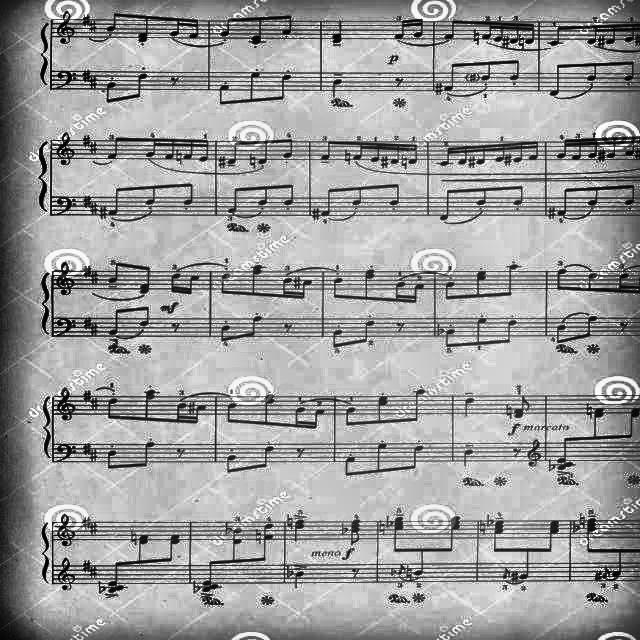Bass-clef: (54, 64, 70, 96), (53, 312, 71, 340), (53, 443, 71, 465), (56, 194, 72, 218)
Bemol: (217, 516, 233, 538), (336, 518, 348, 540), (548, 438, 554, 476), (571, 520, 579, 540), (435, 323, 443, 341), (94, 582, 106, 594), (285, 566, 293, 582), (192, 581, 200, 595), (486, 515, 494, 529), (388, 511, 392, 533), (392, 568, 396, 576)
Diez: (72, 242, 91, 282), (598, 20, 608, 54), (86, 15, 100, 35), (465, 151, 479, 171), (81, 436, 92, 459), (310, 204, 322, 224), (546, 200, 556, 224), (79, 510, 91, 530), (216, 152, 226, 174), (598, 148, 610, 166), (82, 384, 94, 402), (632, 22, 640, 48), (92, 442, 100, 468), (434, 78, 444, 98), (87, 198, 97, 218), (294, 274, 302, 298), (81, 66, 91, 84), (503, 152, 513, 170), (509, 569, 519, 587), (82, 128, 90, 150), (380, 150, 388, 172), (89, 396, 98, 414), (92, 268, 100, 288), (187, 401, 197, 417), (82, 9, 90, 27), (90, 137, 98, 155), (78, 196, 90, 208), (90, 518, 98, 536), (90, 323, 98, 339), (84, 312, 92, 328), (505, 32, 511, 52), (466, 70, 478, 80), (99, 206, 109, 218), (89, 564, 99, 576), (84, 558, 92, 572), (634, 143, 640, 161), (90, 74, 98, 86), (591, 570, 599, 582)
Eighth-note: (556, 434, 578, 476), (432, 186, 456, 222), (472, 268, 496, 304), (504, 259, 524, 301), (246, 14, 266, 54), (436, 13, 460, 42), (134, 8, 152, 46), (358, 263, 376, 301), (138, 390, 158, 424), (436, 276, 460, 304), (128, 306, 156, 330), (280, 6, 300, 36), (548, 64, 566, 96), (448, 512, 464, 548), (138, 260, 152, 300), (373, 397, 393, 425), (381, 180, 404, 204), (226, 182, 242, 215), (547, 264, 567, 290), (446, 62, 462, 94), (216, 13, 234, 41), (280, 180, 300, 204), (550, 322, 574, 342), (258, 394, 274, 424), (512, 398, 532, 422), (255, 138, 272, 166), (595, 394, 605, 441), (235, 525, 248, 561), (470, 321, 490, 344), (180, 178, 197, 205), (103, 80, 119, 108), (107, 134, 121, 166), (412, 390, 426, 422), (369, 446, 386, 472), (109, 182, 119, 226), (219, 454, 241, 474), (252, 262, 264, 298), (112, 302, 124, 338), (520, 552, 534, 582), (318, 137, 334, 163), (512, 182, 528, 208), (108, 257, 120, 291), (472, 185, 490, 207), (110, 6, 124, 34), (331, 274, 345, 302), (623, 182, 640, 205), (250, 70, 262, 102), (280, 134, 296, 158), (558, 188, 570, 220), (105, 448, 121, 472), (584, 187, 604, 206), (252, 186, 270, 206), (323, 186, 333, 222), (394, 512, 404, 548), (495, 517, 505, 553), (264, 514, 272, 558), (136, 72, 148, 101), (582, 61, 600, 80), (459, 448, 476, 468), (586, 517, 596, 551), (614, 548, 624, 582), (140, 531, 152, 559), (105, 396, 119, 419), (346, 186, 362, 206), (583, 319, 597, 341), (141, 443, 155, 465), (342, 458, 358, 477), (214, 85, 230, 103), (230, 142, 242, 166), (146, 182, 158, 206), (584, 268, 596, 292), (332, 330, 348, 348), (167, 532, 177, 560), (353, 518, 363, 546), (209, 562, 219, 590), (112, 564, 120, 598), (625, 59, 637, 81), (250, 317, 262, 339), (444, 328, 456, 350), (264, 447, 276, 469), (550, 518, 558, 550), (279, 76, 291, 96), (510, 56, 520, 80), (220, 267, 228, 297), (229, 401, 239, 423), (366, 319, 374, 341), (415, 446, 421, 474), (483, 60, 491, 80), (636, 514, 640, 550), (417, 554, 423, 578), (506, 322, 514, 338), (602, 564, 610, 580), (222, 328, 230, 342), (407, 565, 413, 583), (399, 564, 406, 572), (504, 566, 508, 578), (639, 182, 640, 205), (392, 274, 392, 306)
Eighth-rest: (610, 318, 632, 337), (281, 315, 295, 341), (396, 317, 412, 338), (175, 440, 189, 464), (389, 71, 407, 89), (168, 317, 184, 337), (294, 445, 310, 463), (168, 70, 180, 90), (506, 448, 522, 460), (534, 461, 538, 464)
Quarter-note: (319, 10, 349, 50), (620, 400, 640, 436), (459, 397, 477, 419), (330, 78, 346, 98), (298, 569, 304, 587)
Quarter-rest: (346, 567, 362, 577)
Sixteenth-note: (391, 276, 429, 302), (606, 19, 620, 57), (142, 130, 158, 162), (550, 26, 566, 54), (196, 136, 212, 164), (617, 20, 635, 44), (386, 133, 398, 167), (188, 13, 202, 42), (390, 15, 406, 40), (440, 142, 454, 170), (526, 138, 540, 166), (514, 142, 526, 174), (184, 270, 200, 294), (342, 404, 358, 428), (378, 137, 388, 175), (509, 20, 521, 50), (457, 139, 467, 173), (408, 137, 420, 165), (570, 138, 582, 166), (168, 270, 182, 294), (618, 272, 630, 300), (292, 406, 308, 426), (412, 17, 424, 43), (558, 137, 570, 163), (316, 406, 328, 432), (170, 16, 182, 40), (276, 279, 292, 297), (494, 138, 504, 166), (172, 396, 184, 419), (588, 24, 598, 51), (477, 146, 487, 172), (369, 136, 377, 168), (483, 20, 493, 44), (528, 20, 536, 50), (184, 138, 192, 166), (304, 276, 312, 304), (608, 137, 618, 159), (166, 138, 174, 164), (494, 18, 500, 50), (626, 136, 634, 160), (632, 274, 640, 298), (202, 396, 208, 426), (591, 136, 597, 162), (356, 138, 360, 166), (592, 160, 594, 160)
Treble-clef: (48, 126, 76, 166), (52, 558, 80, 594), (56, 7, 76, 49), (57, 385, 75, 423), (58, 264, 74, 300), (60, 510, 74, 550), (528, 438, 536, 472)
